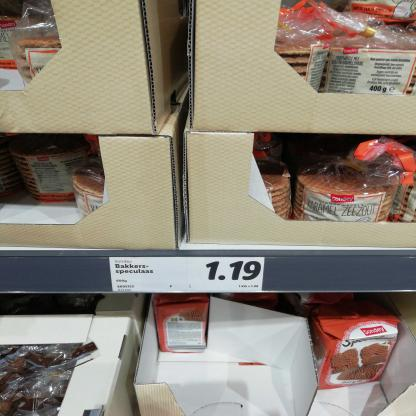prtg: (110, 258, 266, 293)
